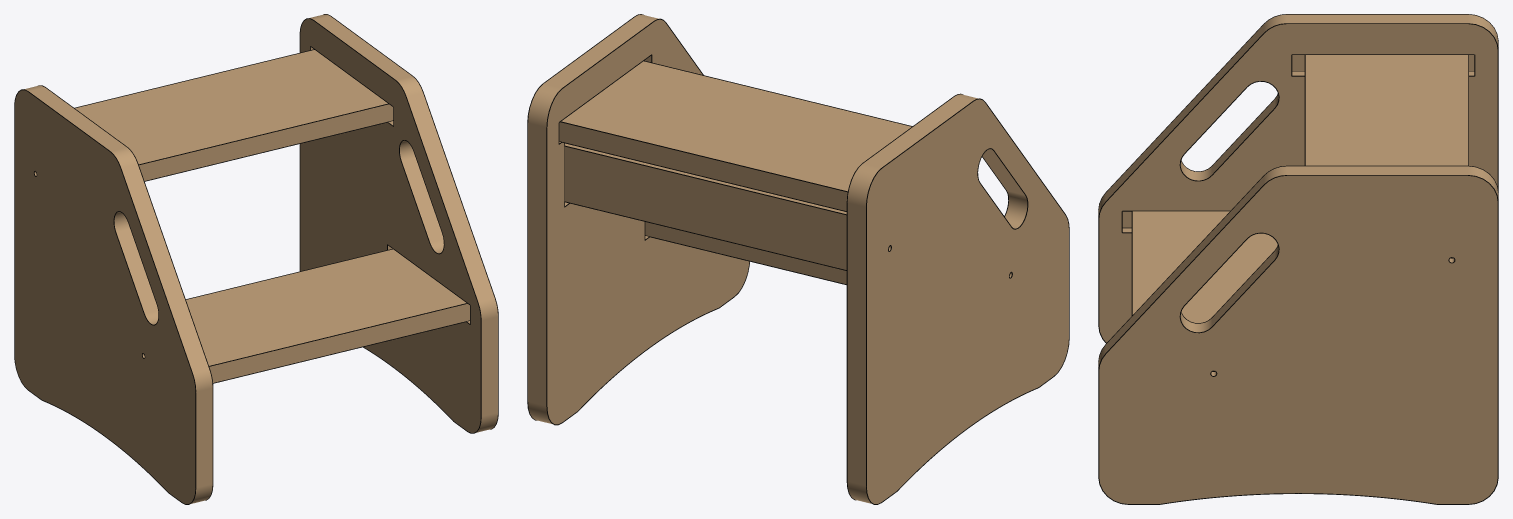
File: modelo.glb
The picture shows the model from 3 angles, left to right: view 1: azimuth 30°, elevation 25°; view 2: azimuth 150°, elevation 25°; view 3: azimuth 270°, elevation 25°; orthographic projection. The views are drawn at different scales.
Visible parts, largest first — view 1: Cuerpo14, Cuerpo16, Cuerpo15, Cuerpo17, Cuerpo16_Bordes, Cuerpo14_Bordes, Cuerpo15_Bordes, Cuerpo17_Bordes; view 2: Cuerpo14, Cuerpo16, Cuerpo15, Cuerpo13, Cuerpo17, Cuerpo14_Bordes, Cuerpo16_Bordes, Cuerpo15_Bordes, Cuerpo13_Bordes; view 3: Cuerpo16, Cuerpo14, Cuerpo15, Cuerpo17, Cuerpo16_Bordes, Cuerpo14_Bordes.
Part boxes in pixels (bbox=[...]): Cuerpo14: bbox=[15, 85, 212, 503]; Cuerpo16: bbox=[300, 14, 497, 432]; Cuerpo15: bbox=[75, 50, 393, 180]; Cuerpo17: bbox=[186, 249, 469, 382]; Cuerpo16_Bordes: bbox=[299, 14, 498, 433]; Cuerpo14_Bordes: bbox=[14, 85, 213, 504]; Cuerpo15_Bordes: bbox=[74, 49, 393, 181]; Cuerpo17_Bordes: bbox=[186, 249, 469, 383]; Cuerpo14: bbox=[847, 94, 1068, 503]; Cuerpo16: bbox=[528, 14, 749, 424]; Cuerpo15: bbox=[559, 61, 911, 210]; Cuerpo13: bbox=[564, 143, 846, 269]; Cuerpo17: bbox=[645, 222, 846, 284]; Cuerpo14_Bordes: bbox=[846, 93, 1069, 504]; Cuerpo16_Bordes: bbox=[527, 14, 749, 425]; Cuerpo15_Bordes: bbox=[559, 60, 912, 211]; Cuerpo13_Bordes: bbox=[564, 145, 846, 270]; Cuerpo16: bbox=[1098, 166, 1498, 503]; Cuerpo14: bbox=[1098, 14, 1498, 342]; Cuerpo15: bbox=[1305, 55, 1468, 165]; Cuerpo17: bbox=[1132, 211, 1277, 322]; Cuerpo16_Bordes: bbox=[1098, 165, 1498, 504]; Cuerpo14_Bordes: bbox=[1098, 14, 1498, 343].
Size of the model in its own units: 0.3187 by 0.3024 by 0.3308.
